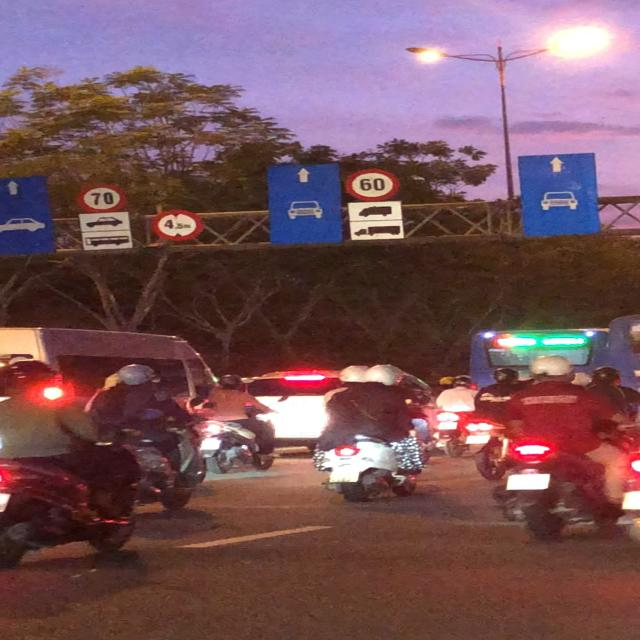Bien bao han che chieu cao: (150, 207, 207, 242)
Bien bao toc do toi da cho phep: (342, 167, 404, 201), (75, 182, 132, 213)
